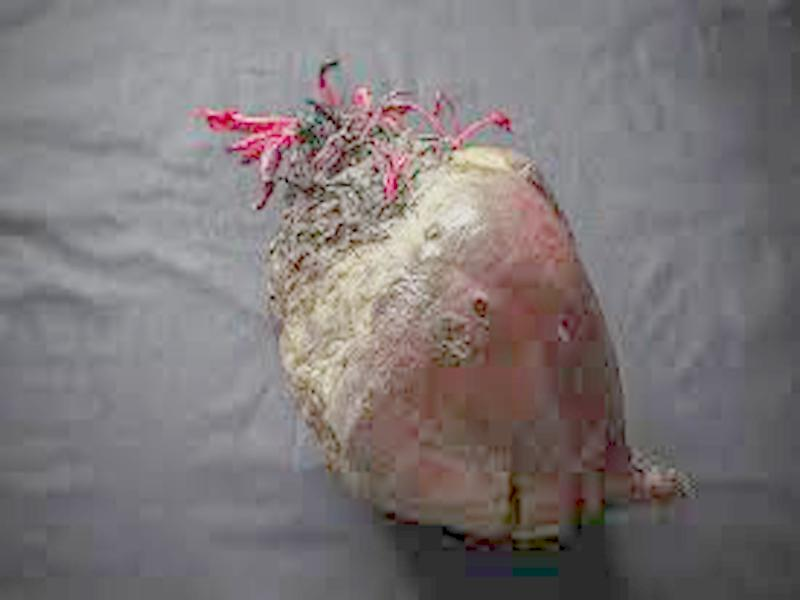Beet: (195, 59, 692, 534)
